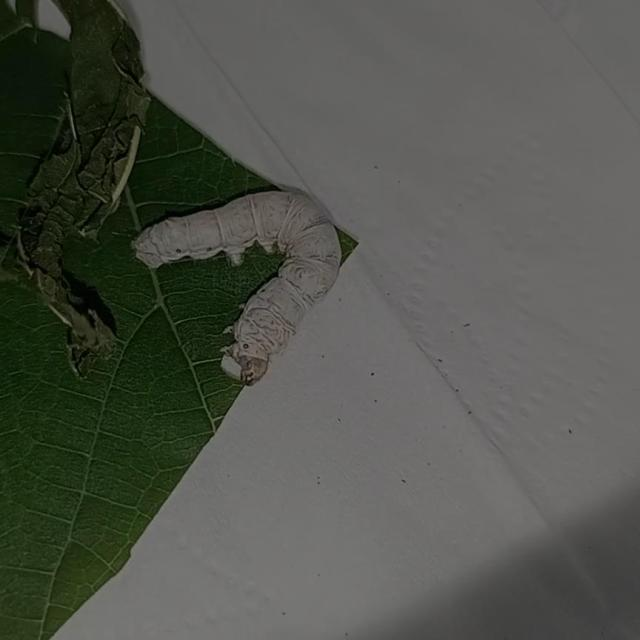Healthy: (114, 165, 398, 398)
